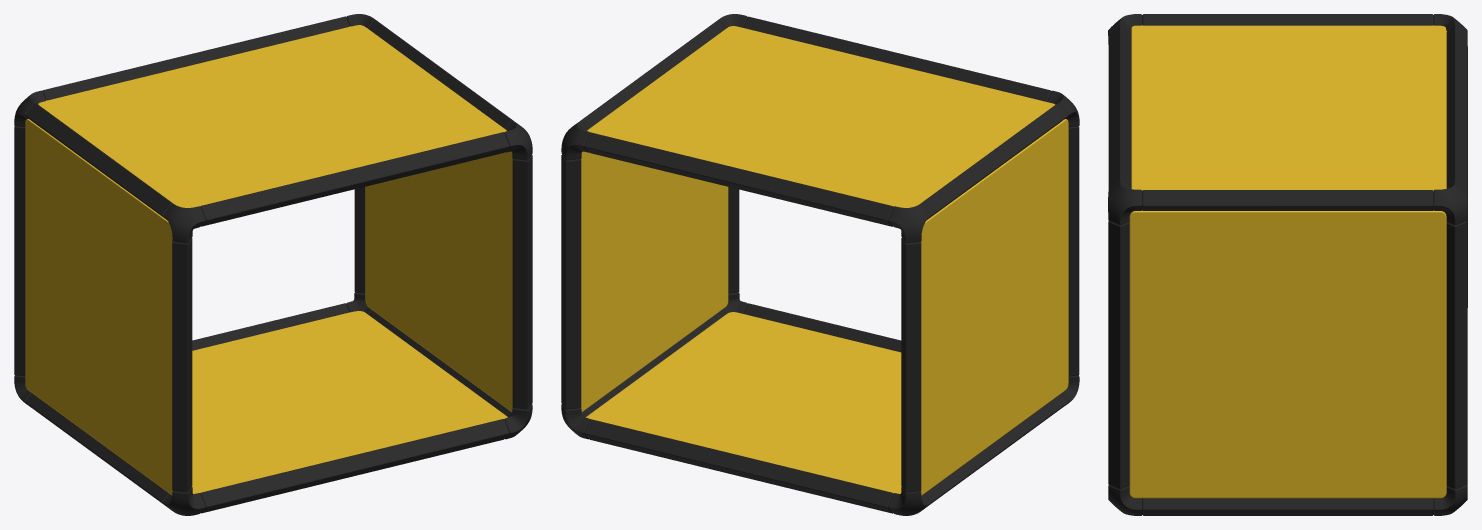
3 renders of one model, left to right at view 1: azimuth 30°, elevation 25°; view 2: azimuth 150°, elevation 25°; view 3: azimuth 270°, elevation 25°, orthographic. The views are drawn at different scales.
Parts seen in each view (by area): view 1: 420x329x330; view 2: 420x329x330; view 3: 420x329x330.
Boxes of the visible parts, bbox=[...] form: 420x329x330: bbox=[14, 14, 532, 515]; 420x329x330: bbox=[561, 14, 1079, 515]; 420x329x330: bbox=[1108, 14, 1467, 515].
Size of the model in its own units: 0.4977 by 0.4066 by 0.4063.
